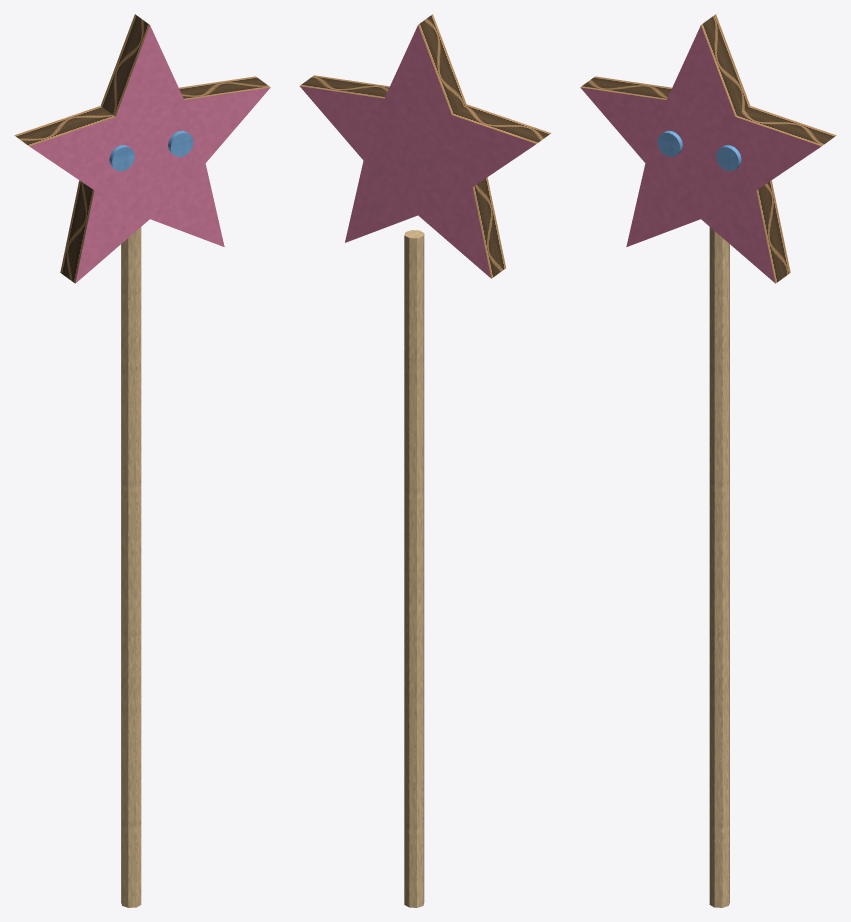
Rendered from goal_star_1.gltf.
3 renders of one model, left to right at view 1: azimuth 30°, elevation 25°; view 2: azimuth 150°, elevation 25°; view 3: azimuth 330°, elevation 25°, orthographic.
Visible parts, largest first — view 1: goal_star_1; view 2: goal_star_1; view 3: goal_star_1.
Part boxes in pixels (x1,y1,x2,y2): goal_star_1: [14, 14, 270, 907]; goal_star_1: [299, 14, 551, 907]; goal_star_1: [580, 14, 836, 907].
Bounding box in the file's own units: 0.7418 × 2.62 × 0.143.
4 materials, 4 textured.
